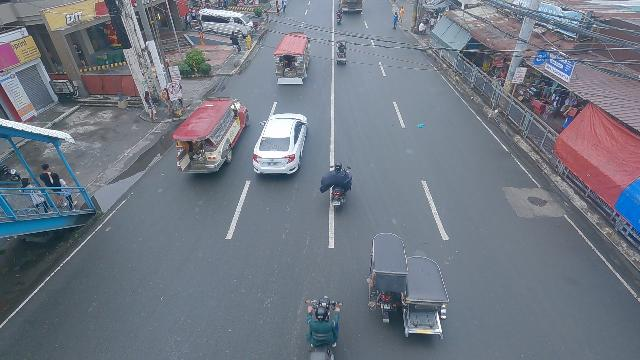car: (253, 112, 309, 176)
jeepney: (171, 96, 253, 175), (273, 30, 311, 87)
motorcycle: (306, 297, 342, 359), (326, 167, 353, 209), (336, 9, 343, 25)
van: (196, 8, 256, 39)
